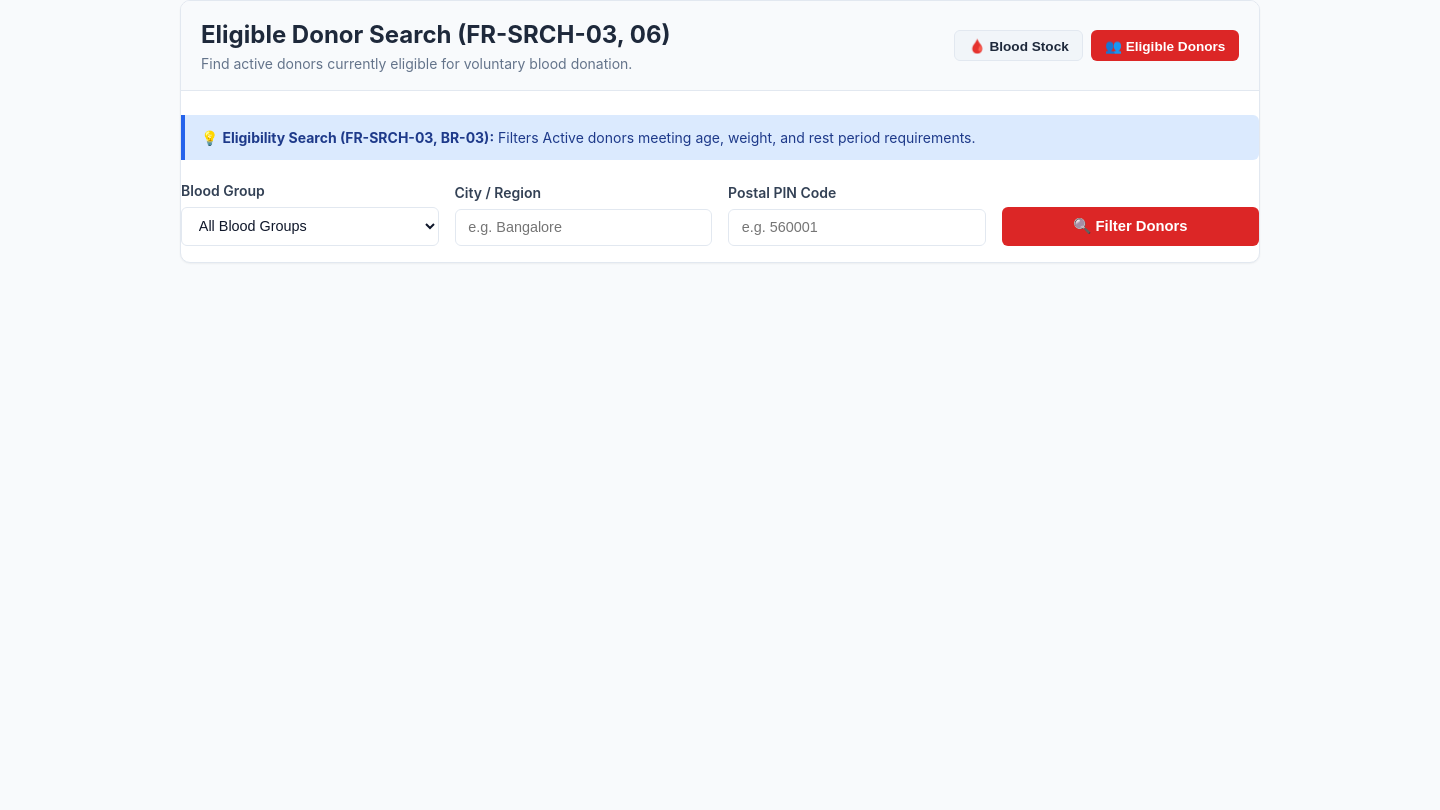
Test case: Frontend SearchModule (FR-SRCH-01 to FR-SRCH-06, TC-09, TC-12, TC-26) › allows Staff to search eligible donors with pagination controls (FR-SRCH-03, FR-SRCH-06, TC-26)
Expected: the heading "Eligible Donor Search (FR-SRCH-03, 06)" is shown, [201,17,671,53]
Expected: the field labelled "City / Region" is shown, [454,209,712,246]
Click the button "🔍 Filter Donors" at (1130, 226), box [1002,207,1259,246]
(page scrolled)
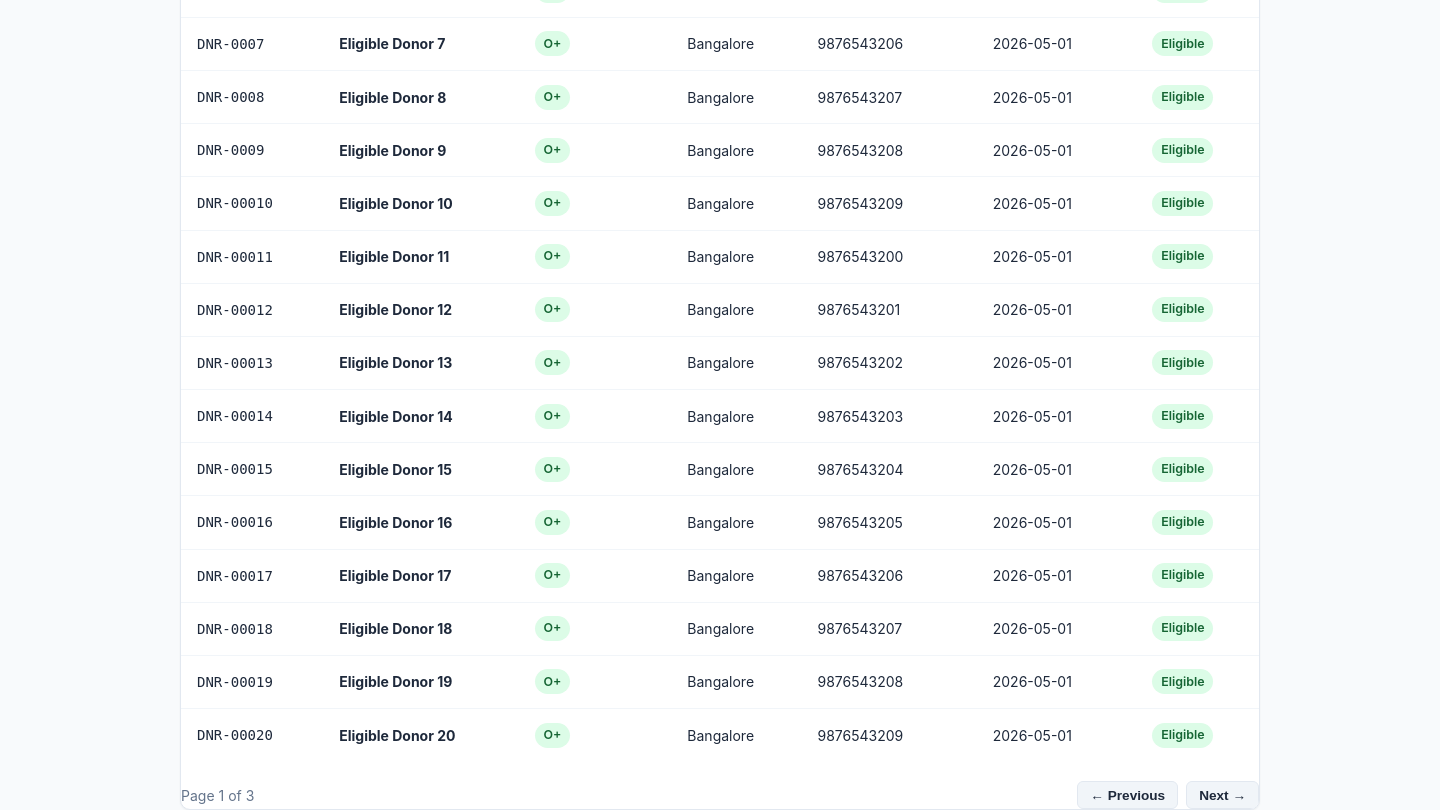
Result: the text "Page 1 of 3" is shown at [181,785,254,806]
Result: the button "← Previous" is disabled at [1077,781,1178,809]
Result: the button "Next →" is enabled at [1186,781,1259,809]
